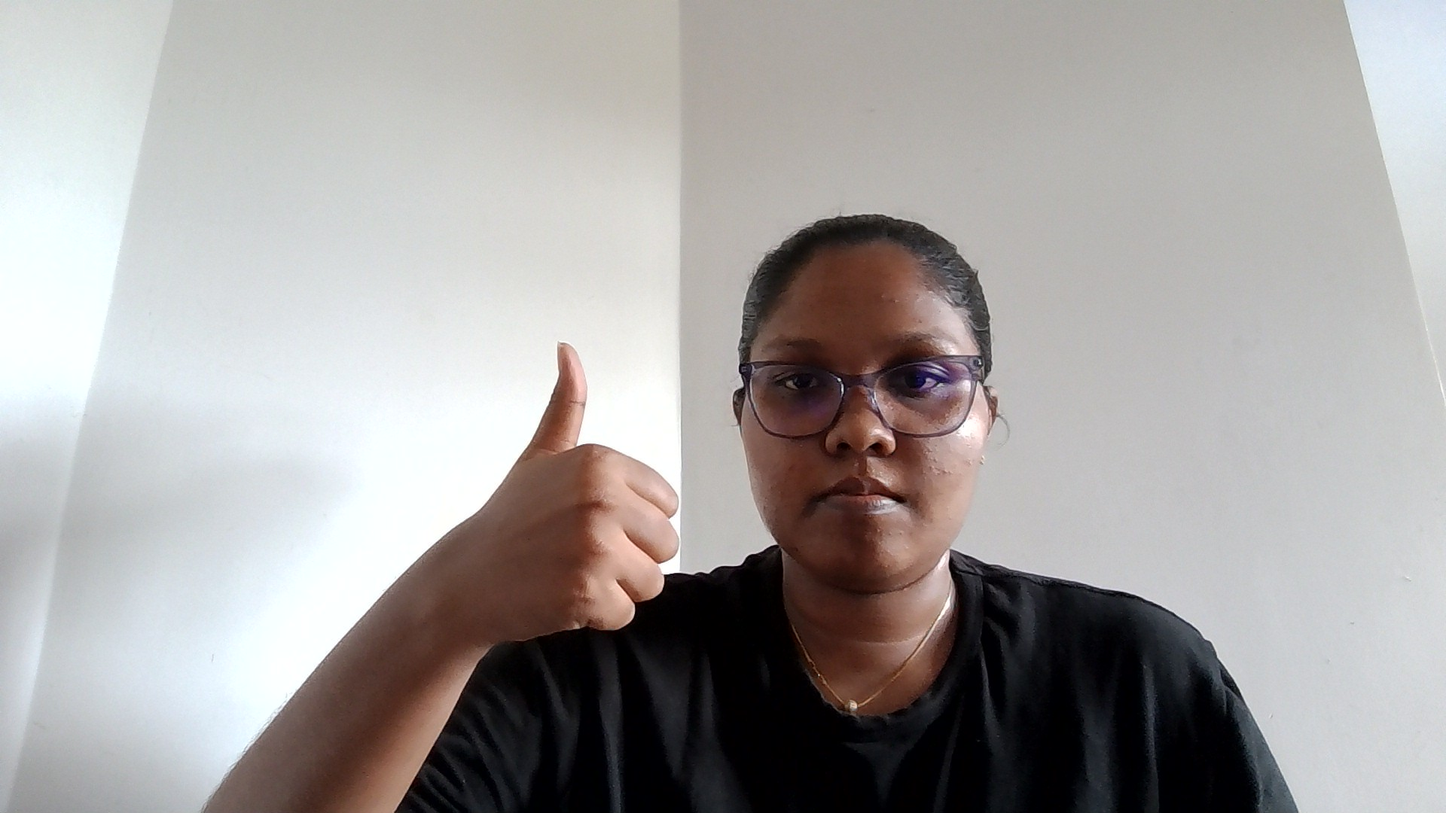Thumbs Up: (377, 290, 713, 681)
